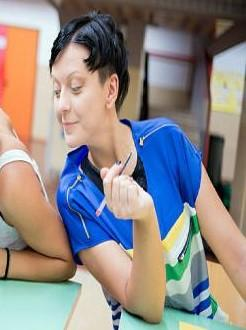cheating: (45, 9, 235, 328)
